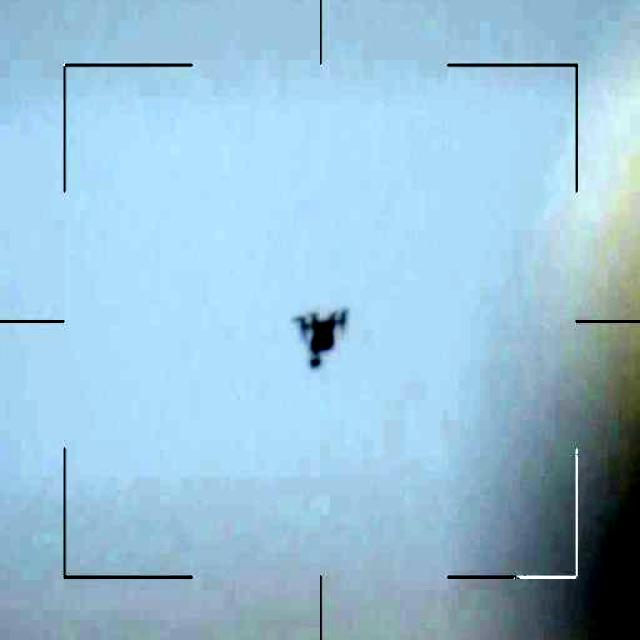bird: (284, 311, 356, 370)
